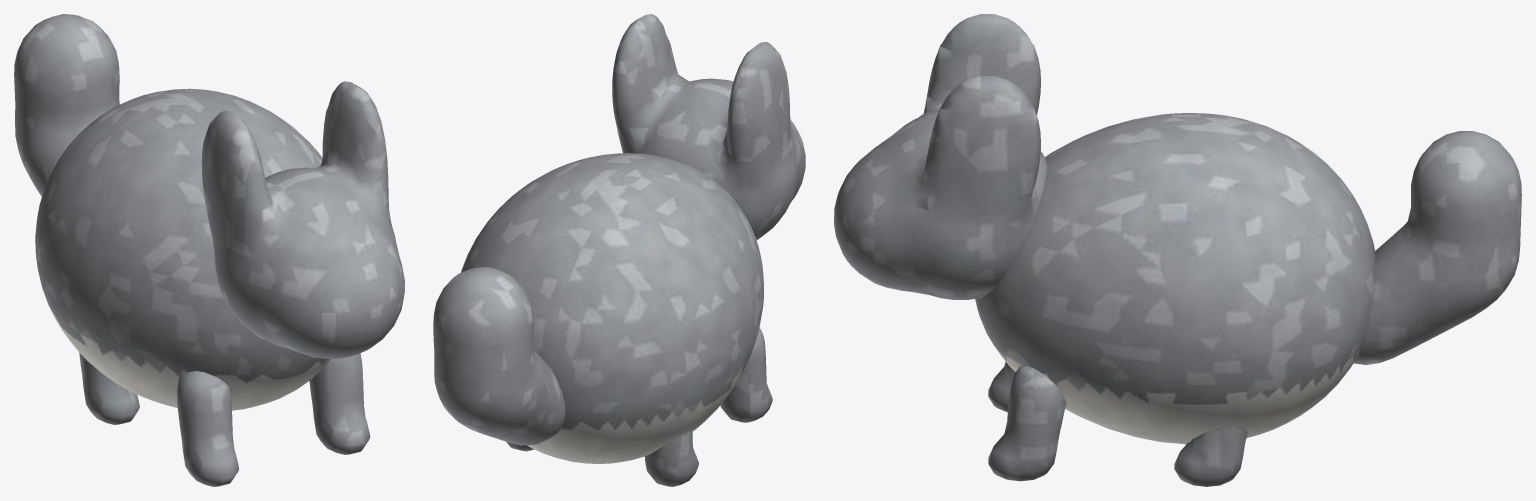
Rendered from animal_chinchilla.glb.
The picture shows the model from 3 angles, left to right: view 1: azimuth 30°, elevation 25°; view 2: azimuth 150°, elevation 25°; view 3: azimuth 270°, elevation 25°; orthographic projection. The views are drawn at different scales.
Visible parts, largest first — view 1: animal_chinchilla, head, tail, leg0, leg1, leg2; view 2: animal_chinchilla, head, tail, leg0, leg2; view 3: animal_chinchilla, head, tail, leg1, leg3, leg0.
Boxes of the visible parts, left/top/right/bottom form: animal_chinchilla: left=35, top=88, right=329, bottom=410; head: left=201, top=81, right=404, bottom=358; tail: left=14, top=14, right=119, bottom=196; leg0: left=177, top=371, right=238, bottom=486; leg1: left=309, top=353, right=370, bottom=454; leg2: left=79, top=353, right=139, bottom=424; animal_chinchilla: left=461, top=153, right=763, bottom=463; head: left=612, top=14, right=805, bottom=240; tail: left=433, top=267, right=565, bottom=445; leg0: left=720, top=328, right=772, bottom=422; leg2: left=644, top=431, right=698, bottom=486; animal_chinchilla: left=975, top=113, right=1375, bottom=444; head: left=834, top=14, right=1047, bottom=299; tail: left=1353, top=131, right=1521, bottom=364; leg1: left=988, top=366, right=1066, bottom=481; leg3: left=1174, top=426, right=1247, bottom=486; leg0: left=988, top=361, right=1015, bottom=412.
Size of the model in its own units: 0.1216 by 0.1658 by 0.2584.
Materials: 1 (1 with a texture image).
